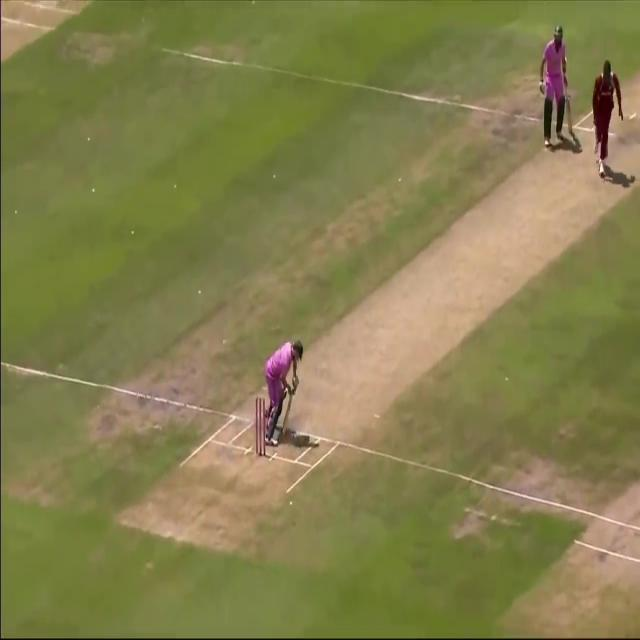Ball: (259, 332, 309, 452), (536, 23, 581, 153)
Fielder: (581, 57, 628, 179)
